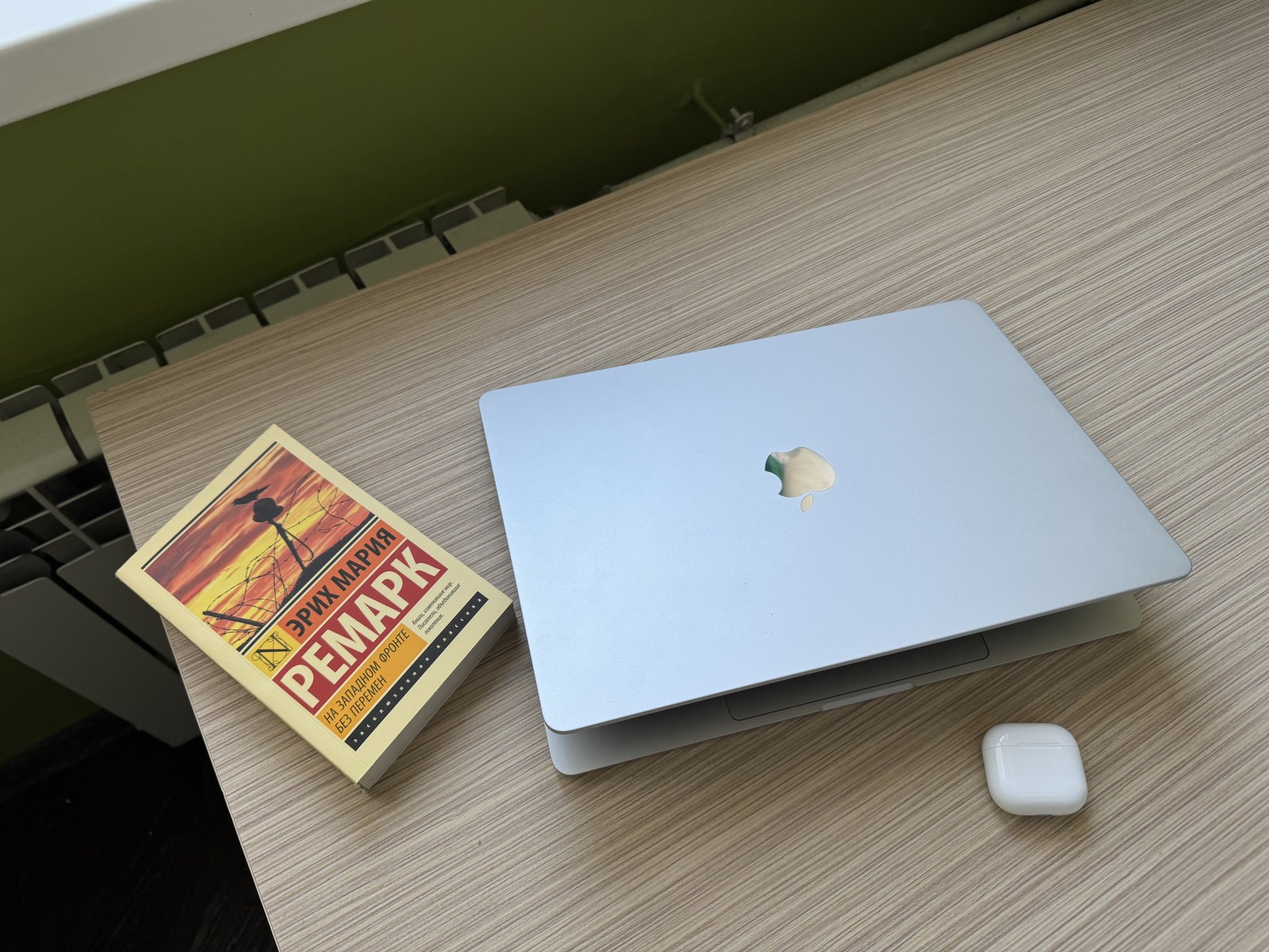laptop: (477, 298, 1192, 776)
